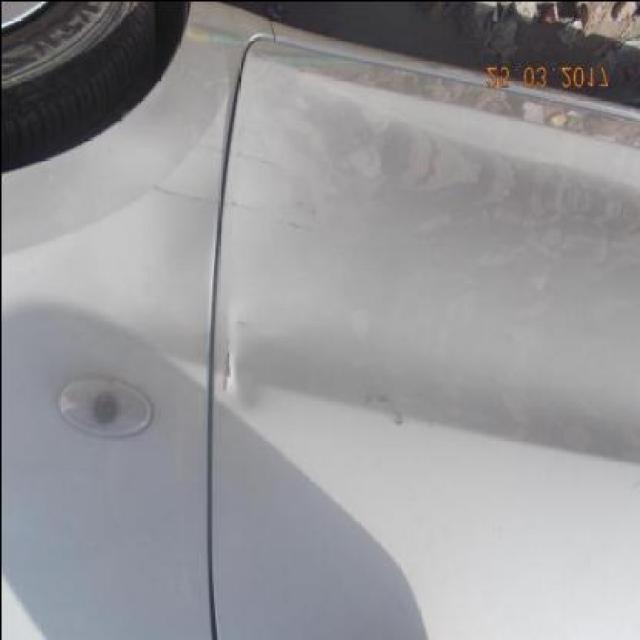damage: (142, 183, 320, 232), (194, 138, 290, 170), (361, 388, 415, 425), (219, 339, 229, 392)
